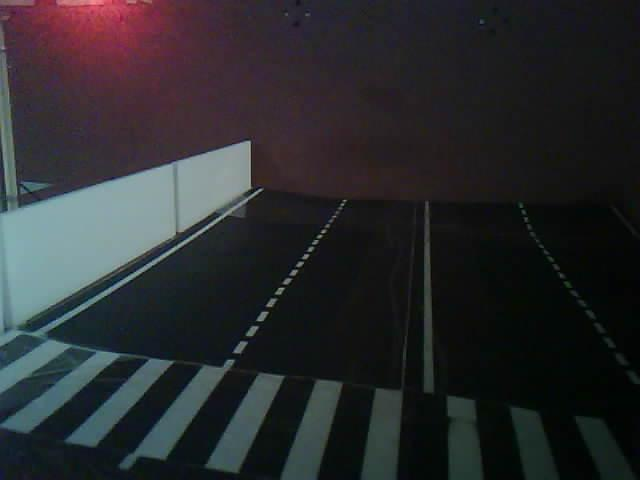crosswalk: (0, 297, 640, 480)
red: (0, 0, 246, 104)
